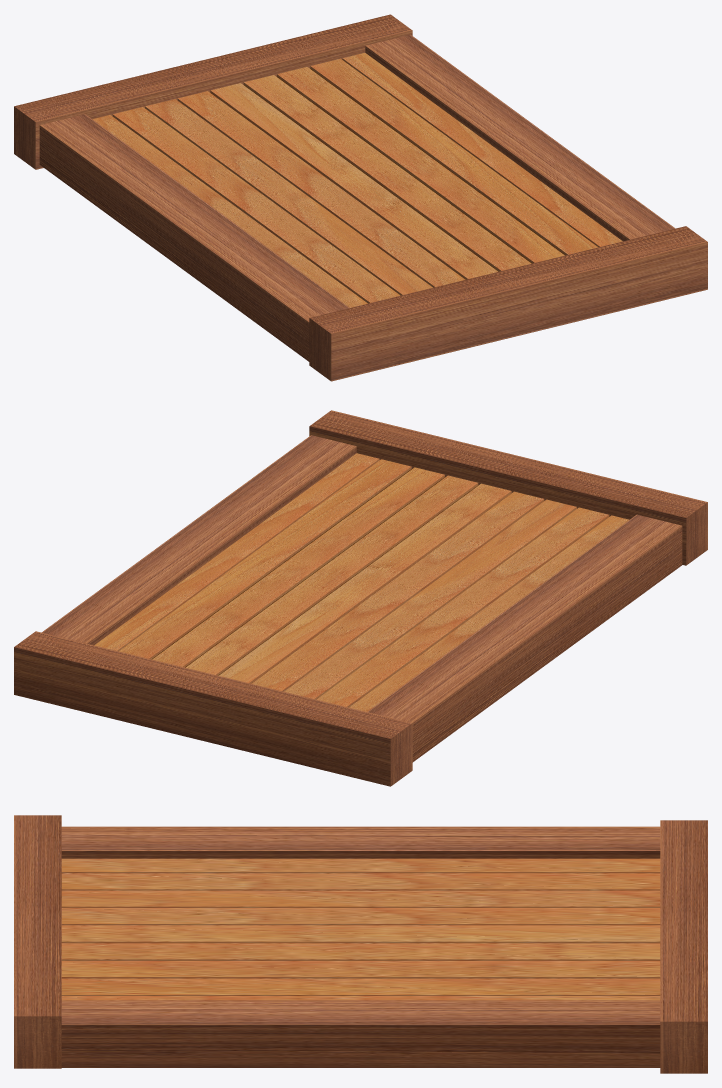
Rendered from crate_lid.fbx.
The picture shows the model from 3 angles, top to bottom: view 1: azimuth 30°, elevation 25°; view 2: azimuth 150°, elevation 25°; view 3: azimuth 270°, elevation 25°; orthographic projection. The views are drawn at different scales.
Visible parts, largest first — view 1: Cube.008, Cube.010, Cube.001, Cube.005, Cube.012, inside_crate; view 2: Cube.008, Cube.012, Cube.001, Cube.010, Cube.005, inside_crate; view 3: Cube.008, Cube.005, Cube.001, Cube.010, Cube.012.
Part boxes in pixels (x1,y1,x2,y2): Cube.008: [92, 53, 622, 307]; Cube.010: [309, 226, 707, 381]; Cube.001: [39, 114, 349, 361]; Cube.005: [365, 34, 675, 241]; Cube.012: [14, 14, 412, 169]; inside_crate: [244, 68, 565, 271]; Cube.008: [94, 453, 629, 711]; Cube.012: [14, 631, 412, 786]; Cube.001: [367, 514, 682, 762]; Cube.010: [309, 410, 707, 565]; Cube.005: [42, 435, 356, 645]; inside_crate: [152, 469, 478, 675]; Cube.008: [61, 858, 660, 1000]; Cube.005: [61, 1000, 660, 1067]; Cube.001: [61, 826, 660, 858]; Cube.010: [14, 815, 61, 1068]; Cube.012: [660, 820, 707, 1073].
Bounding box in the file's own units: 53.27 × 4.85 × 36.51.
